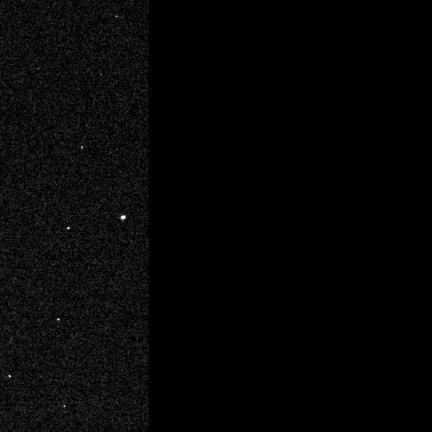blob: (121, 216, 126, 220), (67, 227, 71, 230), (9, 375, 12, 378), (81, 146, 84, 149), (115, 16, 119, 18), (57, 319, 60, 321), (64, 405, 66, 408)
